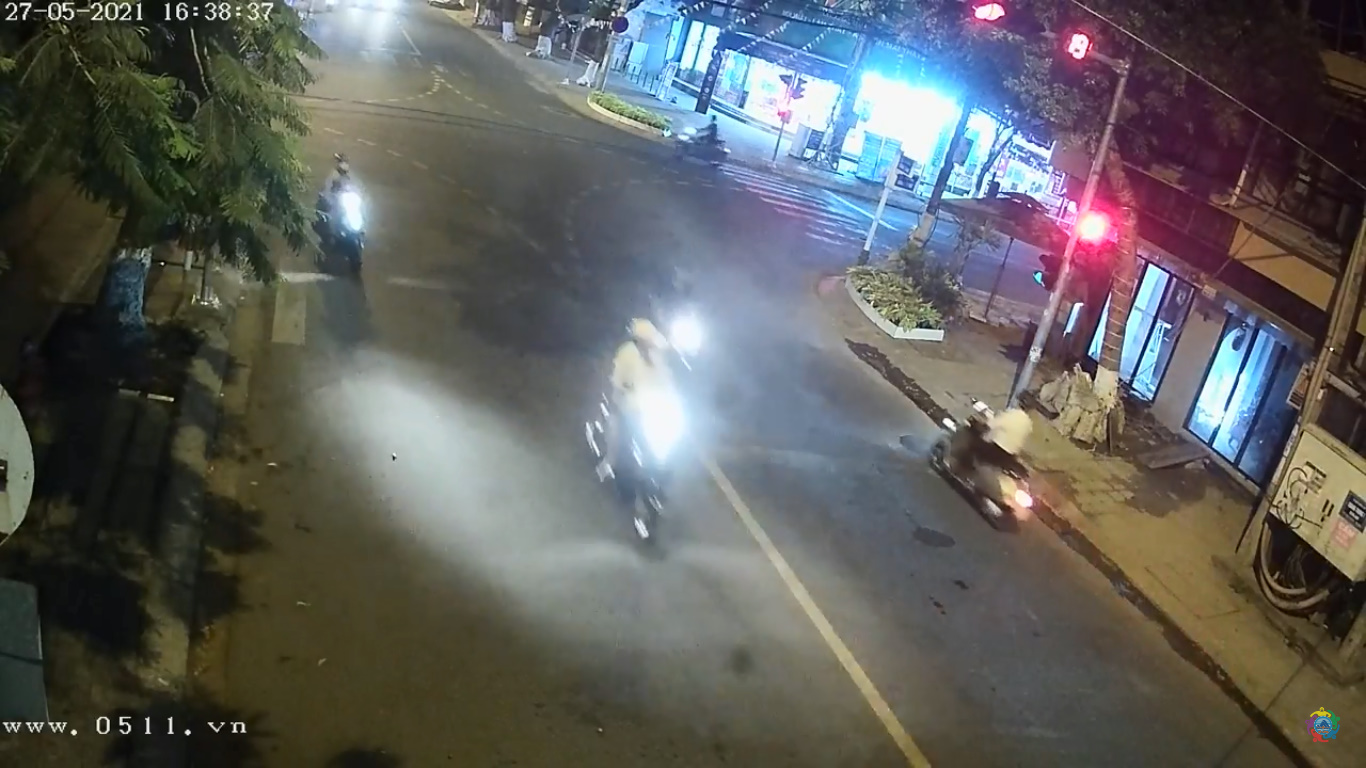motorbike: (569, 315, 720, 567), (307, 157, 374, 273)
